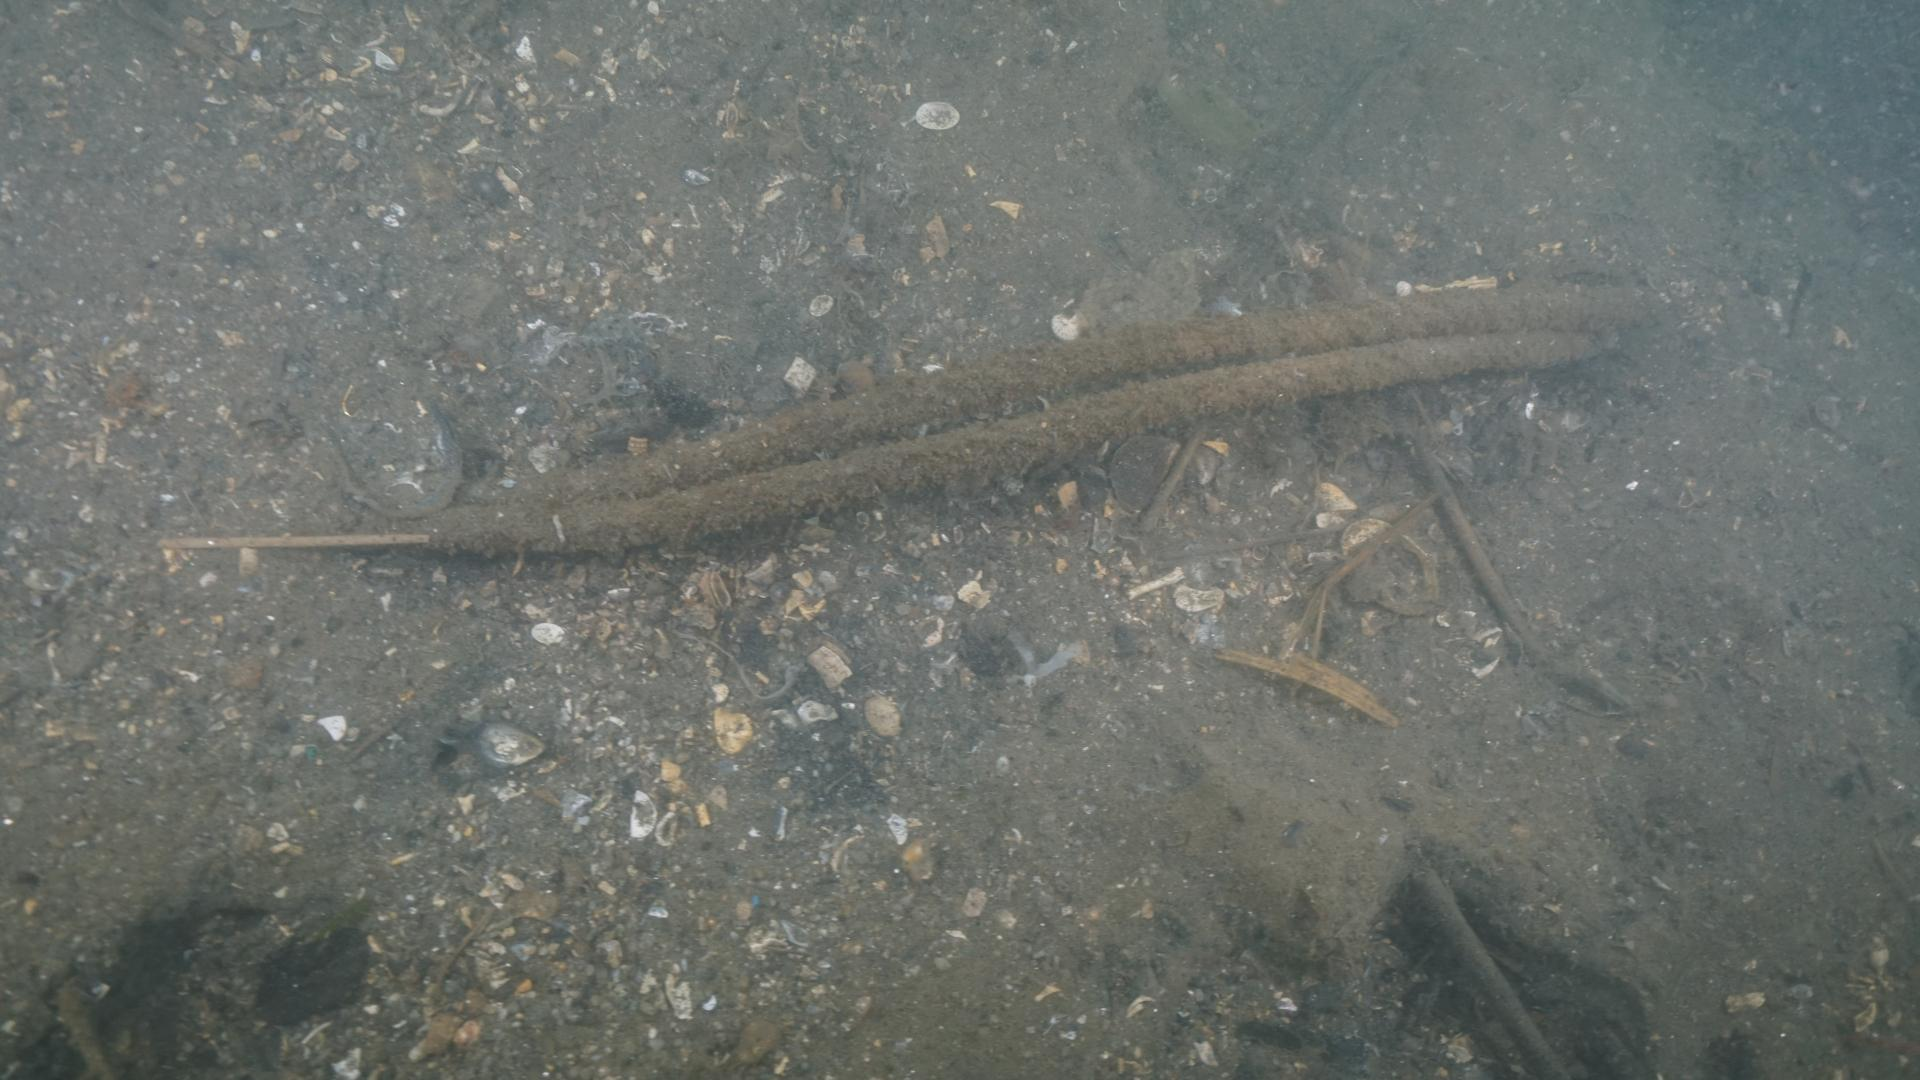rope: (411, 262, 1676, 562)
